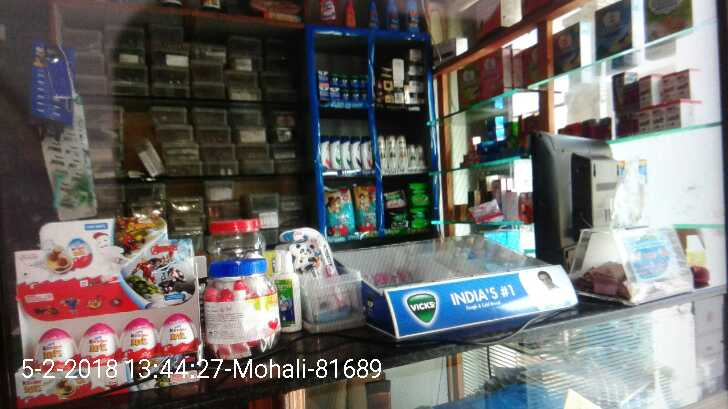beauty: (375, 47, 430, 106), (317, 130, 373, 171), (377, 133, 428, 171)
pharmacy: (314, 64, 370, 102), (385, 180, 430, 227), (321, 185, 355, 234), (355, 185, 381, 229)
